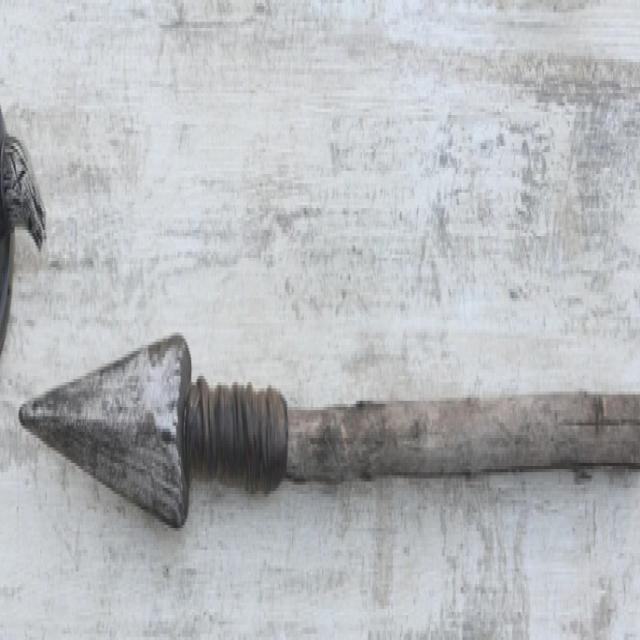spear: (6, 283, 638, 573)
